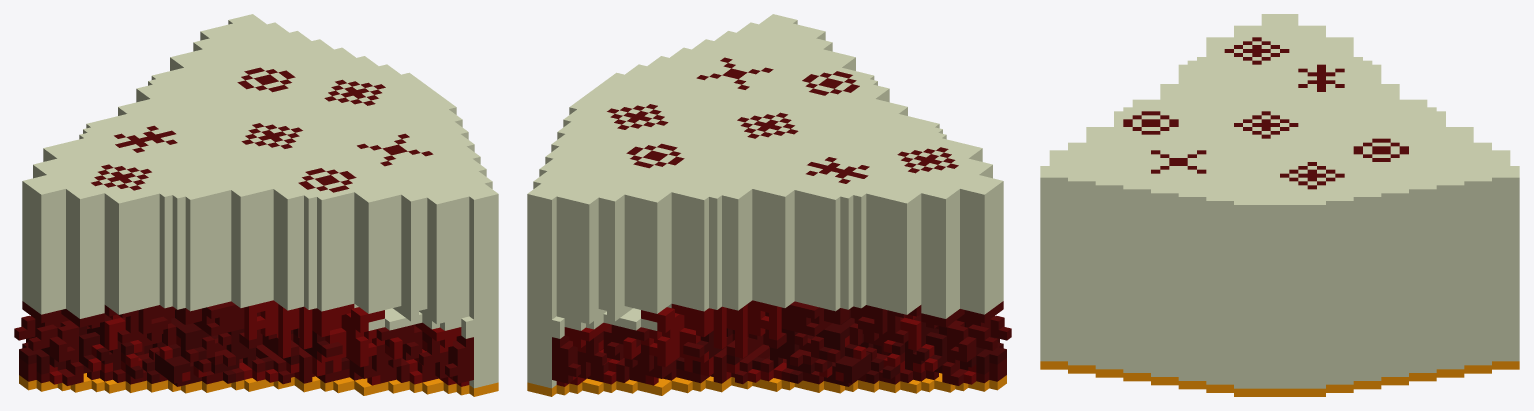
The model's file is Mousse.obj.
3 views of the same model, side by side, from view 1: azimuth 30°, elevation 25°; view 2: azimuth 150°, elevation 25°; view 3: azimuth 270°, elevation 25° (orthographic). The views are drawn at different scales.
Visible parts, largest first — view 1: Mousse; view 2: Mousse; view 3: Mousse.
Boxes of the visible parts, bbox=[...] form: Mousse: bbox=[14, 14, 498, 396]; Mousse: bbox=[527, 14, 1011, 396]; Mousse: bbox=[1040, 14, 1519, 396].
Size of the model in its own units: 50 by 23 by 52.
Materials: 1 (1 with a texture image).
